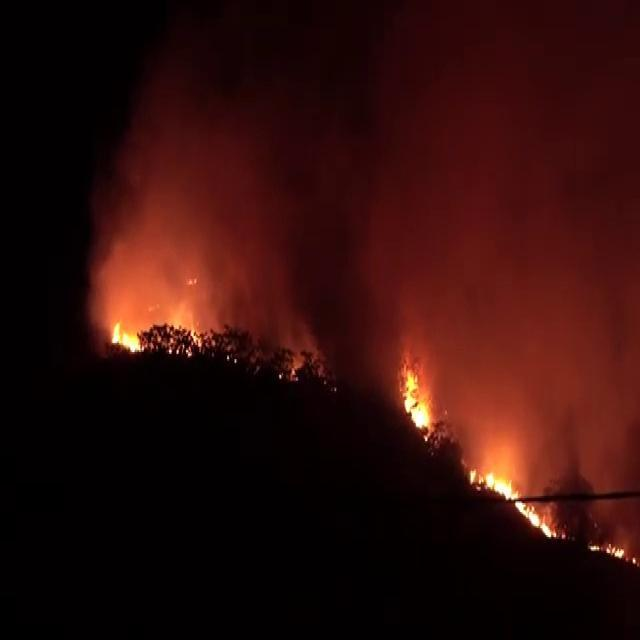Fire: (484, 471, 555, 539), (400, 368, 428, 436), (109, 318, 142, 361), (171, 304, 199, 345), (608, 542, 624, 558)
Smoke: (75, 39, 635, 576)
